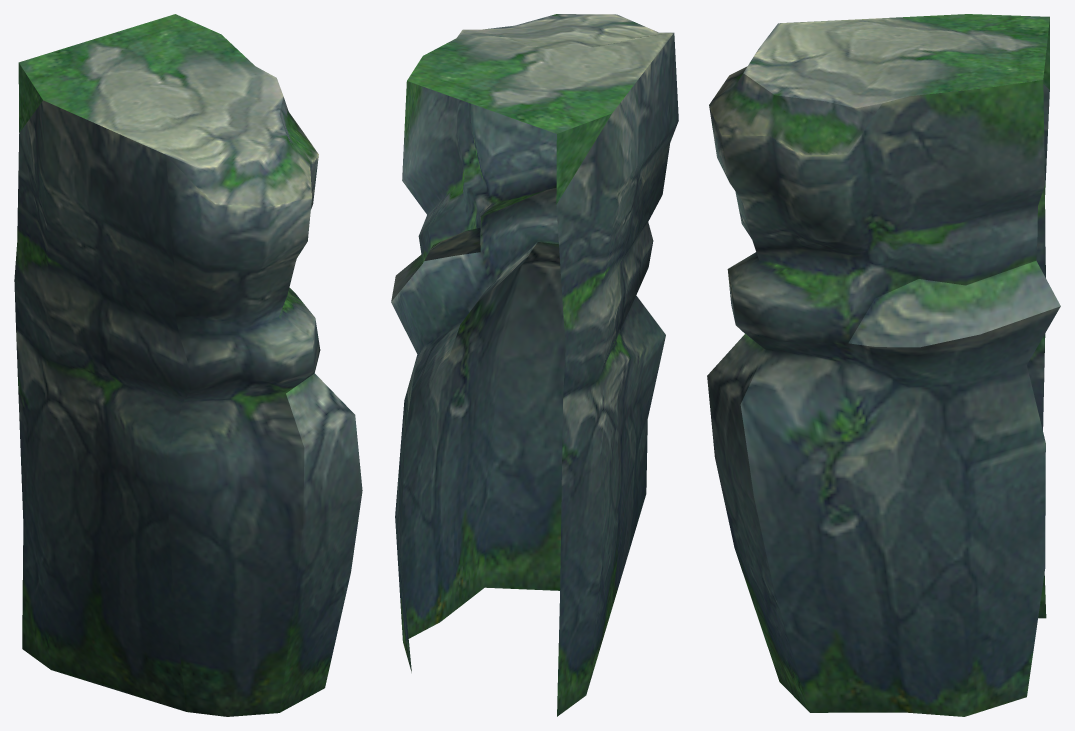
File: WSD_Item_15.FBX
3 views of the same model, side by side, from view 1: azimuth 30°, elevation 25°; view 2: azimuth 150°, elevation 25°; view 3: azimuth 270°, elevation 25° (orthographic). The views are drawn at different scales.
Parts seen in each view (by area): view 1: WSD_Item_15; view 2: WSD_Item_15; view 3: WSD_Item_15.
Part boxes in pixels (x1,y1,x2,y2): WSD_Item_15: (14, 14, 362, 716); WSD_Item_15: (391, 14, 678, 716); WSD_Item_15: (707, 14, 1060, 716).
Bounding box in the file's own units: 8.45 × 22.2 × 11.56.
